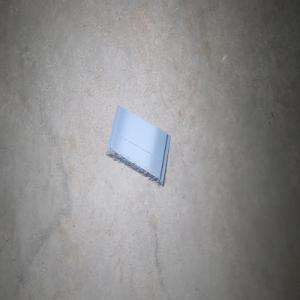PlasticPart: (105, 104, 170, 187)
